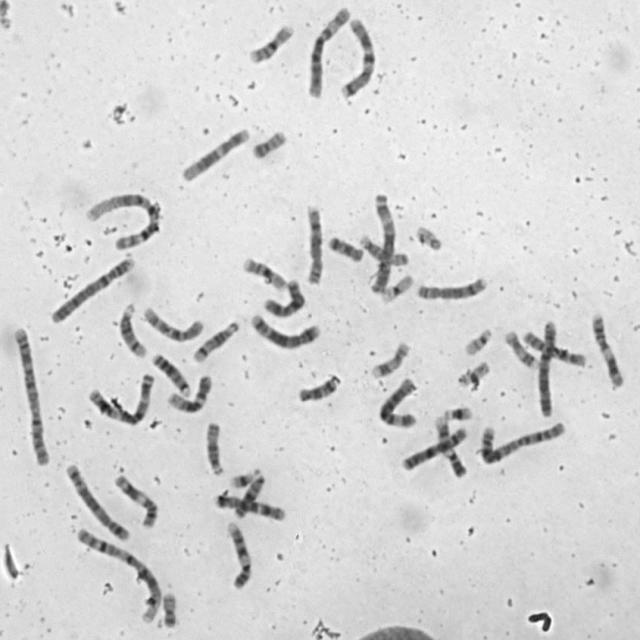A1: (71, 524, 164, 626), (81, 186, 164, 251)
A2: (9, 322, 52, 468), (475, 416, 568, 465)
A3: (84, 368, 156, 427), (366, 189, 397, 294)
B4: (46, 250, 136, 325), (534, 314, 560, 418)
B5: (61, 458, 132, 543), (246, 310, 323, 350)
C10: (138, 302, 206, 344), (518, 327, 587, 368)
C11: (112, 469, 162, 530), (589, 309, 627, 389)
C12: (177, 123, 252, 183), (165, 371, 215, 415)
C6: (304, 1, 352, 99), (375, 372, 418, 428)
C7: (336, 12, 376, 98), (210, 489, 288, 523)
C8: (413, 271, 490, 302), (301, 200, 325, 287)
C9: (430, 411, 468, 478), (223, 518, 254, 590)
D13: (148, 349, 192, 398), (230, 466, 267, 520)
D14: (189, 316, 242, 364), (114, 298, 148, 358)
D15: (354, 230, 412, 268), (202, 418, 226, 478)
E16: (246, 19, 296, 65), (238, 253, 287, 292)
E17: (367, 337, 412, 379), (501, 326, 540, 370)
E18: (295, 371, 342, 404), (324, 231, 364, 263)
F19: (377, 269, 415, 305), (454, 357, 492, 387)
F20: (248, 125, 290, 160), (158, 587, 180, 629)
G21: (226, 464, 259, 490), (439, 402, 474, 422)
G22: (460, 323, 494, 357), (412, 221, 444, 252)
X: (397, 421, 469, 472), (261, 274, 308, 318)
